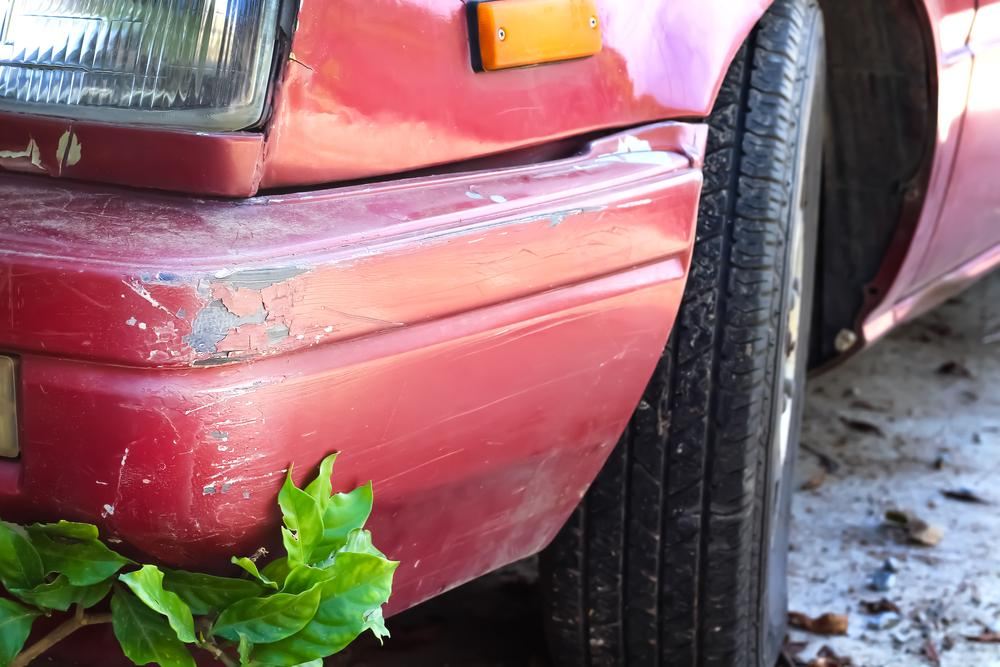scratch: (103, 263, 342, 545)
